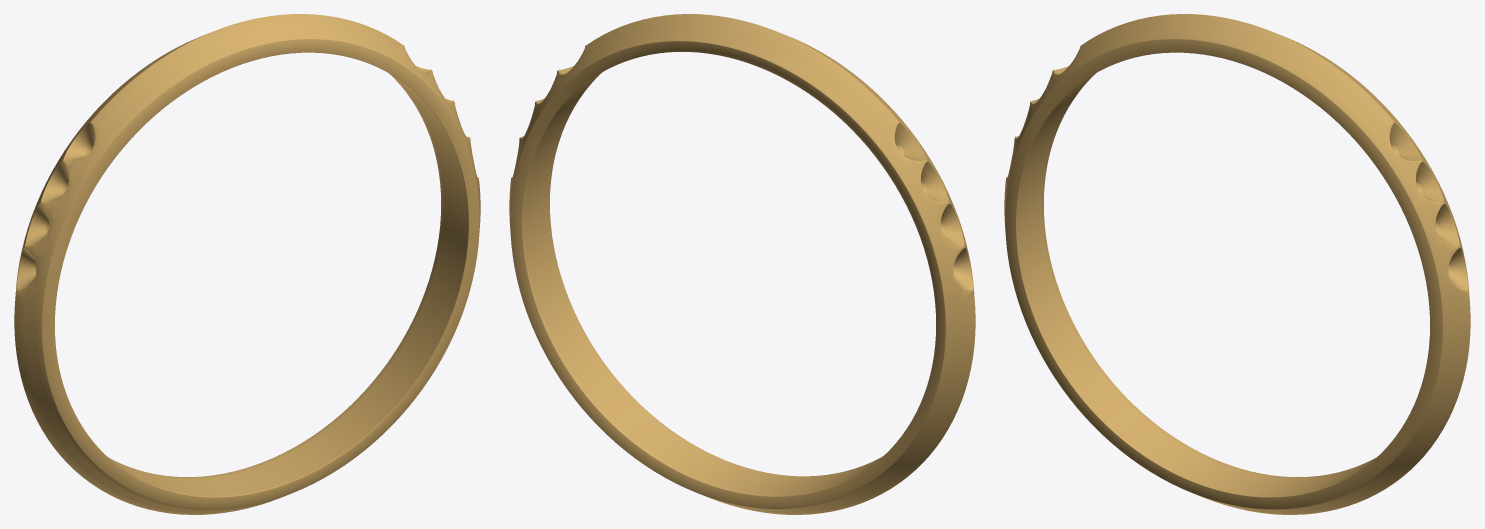
File: knife-edge-bar-head.glb
3 renders of one model, left to right at view 1: azimuth 30°, elevation 25°; view 2: azimuth 150°, elevation 25°; view 3: azimuth 330°, elevation 25°, orthographic.
Parts seen in each view (by area): view 1: Band; view 2: Band; view 3: Band.
Boxes of the visible parts, x1,y1,x2,y2 form: Band: [14, 14, 480, 514]; Band: [509, 14, 975, 514]; Band: [1004, 14, 1470, 514].
Size of the model in its own units: 19.59 by 19.59 by 2.1.
